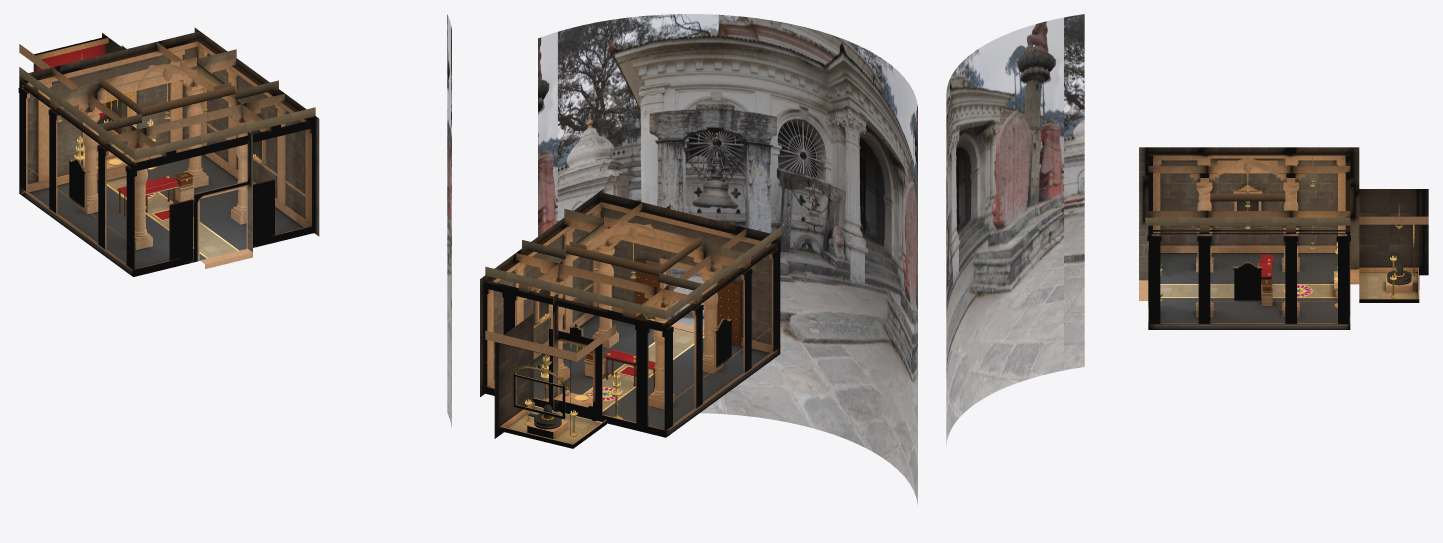
The model's file is sanctum_day.glb.
The picture shows the model from 3 angles, left to right: view 1: azimuth 30°, elevation 25°; view 2: azimuth 150°, elevation 25°; view 3: azimuth 270°, elevation 25°; orthographic projection. The views are drawn at different scales.
Visible parts, largest first — view 1: sanctum; view 2: sanctum; view 3: sanctum.
Part boxes in pixels (bbox=[...]): sanctum: bbox=[18, 14, 451, 427]; sanctum: bbox=[480, 14, 917, 505]; sanctum: bbox=[946, 14, 1428, 445].
Bounding box in the file's own units: 13.29 × 13.5 × 16.72.
28 materials, 11 textured.
